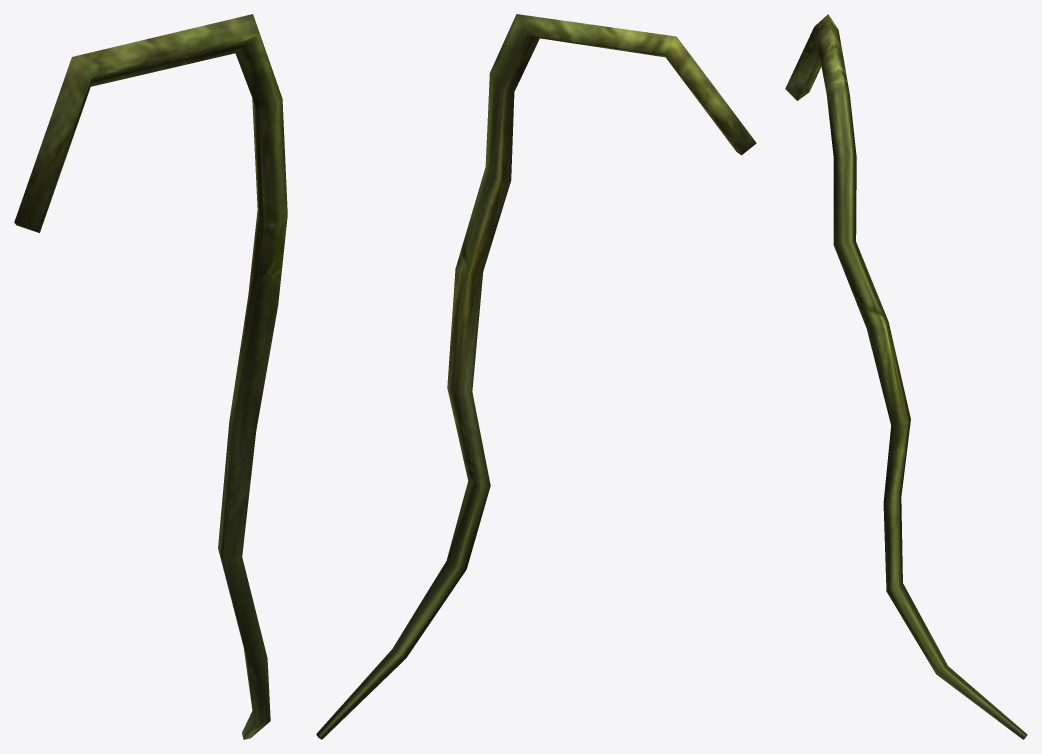
Rendered from TengTiao02.FBX.
The picture shows the model from 3 angles, left to right: view 1: azimuth 30°, elevation 25°; view 2: azimuth 150°, elevation 25°; view 3: azimuth 270°, elevation 25°; orthographic projection. The views are drawn at different scales.
Parts seen in each view (by area): view 1: TengTiao02; view 2: TengTiao02; view 3: TengTiao02.
Boxes of the visible parts, x1=… form: TengTiao02: x1=14, y1=14, x2=287, y2=739; TengTiao02: x1=316, y1=14, x2=756, y2=739; TengTiao02: x1=785, y1=14, x2=1027, y2=739.
Size of the model in its own units: 64.17 by 134 by 47.64.
